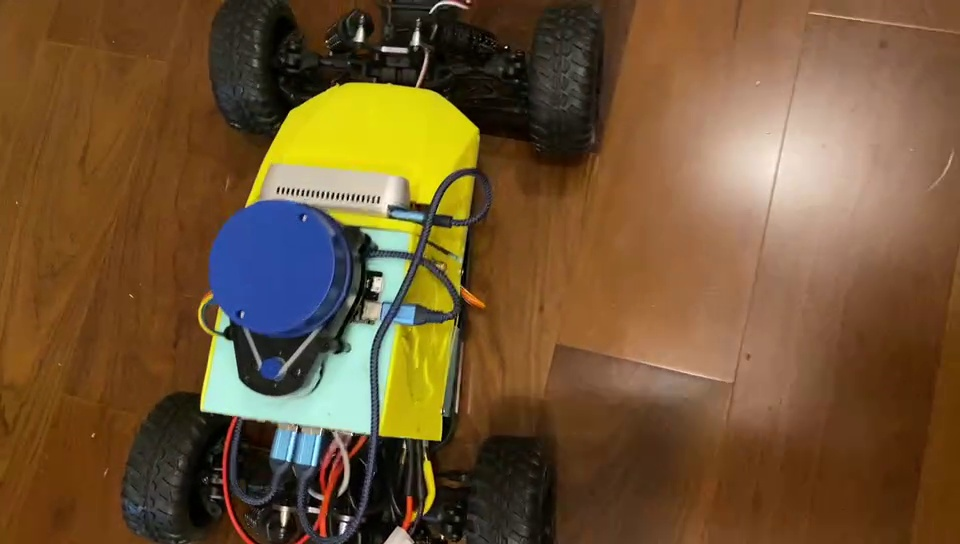mushr_car: (116, 1, 621, 544)
